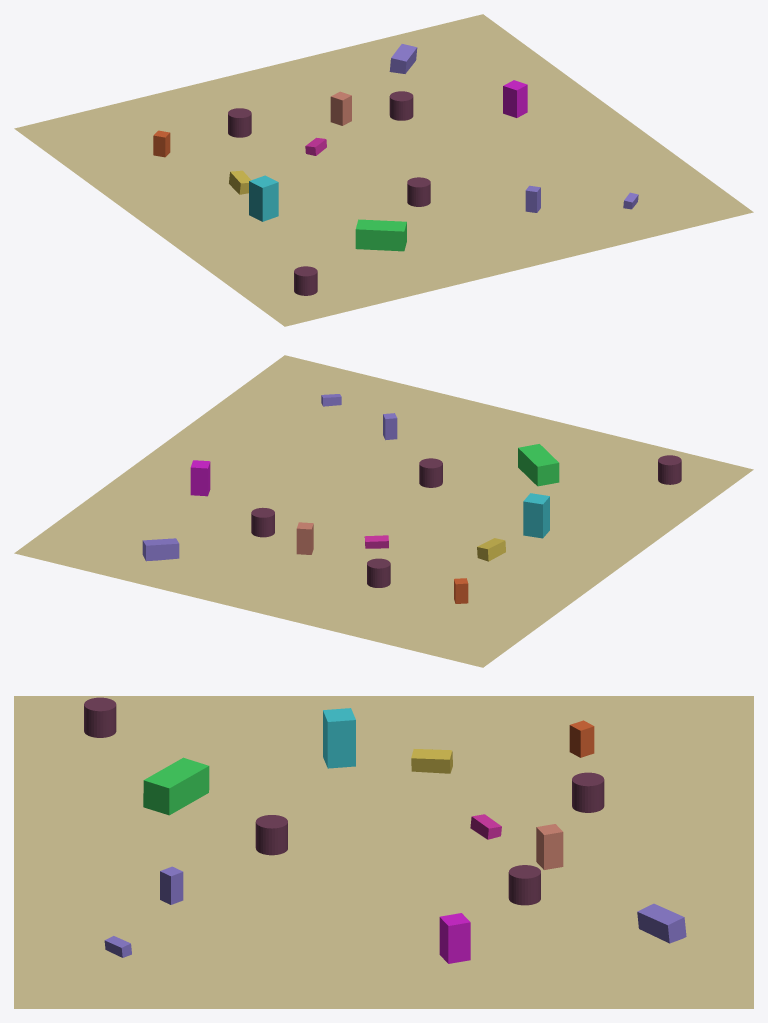
The model's file is Basic_Ground1.fbx.
3 renders of one model, top to bottom at view 1: azimuth 30°, elevation 25°; view 2: azimuth 150°, elevation 25°; view 3: azimuth 270°, elevation 25°, orthographic. The views are drawn at different scales.
Parts seen in each view (by area): view 1: Ground, Prop.007, Prop.001, Prop.003, Prop2, Prop2.001, Prop2.002, Prop.004, Prop2.003, Prop.009; view 2: Ground, Prop.007, Prop.001, Prop.009, Prop.003, Prop2.003, Prop2.002, Prop2.001, Prop2, Prop.004; view 3: Ground, Prop.007, Prop.001, Prop.003, Prop.009, Prop2.001, Prop2.003, Prop2.002, Prop2, Prop.004, Prop.006, Prop (+2 smaller).
Part boxes in pixels (x1,y1,x2,y2): Ground: [14, 14, 753, 326]; Prop.007: [355, 219, 406, 251]; Prop.001: [249, 175, 278, 221]; Prop.003: [503, 80, 527, 117]; Prop2: [389, 91, 413, 120]; Prop2.001: [228, 108, 251, 137]; Prop2.002: [407, 177, 430, 206]; Prop.004: [330, 91, 351, 125]; Prop2.003: [294, 266, 317, 295]; Prop.009: [389, 44, 417, 73]; Ground: [14, 355, 753, 667]; Prop.007: [518, 444, 559, 486]; Prop.001: [523, 493, 549, 538]; Prop.009: [142, 538, 179, 561]; Prop.003: [190, 460, 210, 496]; Prop2.003: [658, 455, 681, 484]; Prop2.002: [419, 458, 442, 487]; Prop2.001: [367, 558, 390, 587]; Prop2: [251, 507, 274, 537]; Prop.004: [296, 522, 313, 554]; Ground: [14, 696, 753, 1008]; Prop.007: [143, 757, 209, 815]; Prop.001: [323, 708, 355, 768]; Prop.003: [439, 913, 470, 963]; Prop.009: [637, 903, 686, 943]; Prop2.001: [572, 772, 604, 812]; Prop2.003: [84, 697, 116, 737]; Prop2.002: [255, 815, 287, 855]; Prop2: [508, 865, 540, 905]; Prop.004: [536, 824, 563, 869]; Prop.006: [411, 749, 452, 773]; Prop: [569, 720, 594, 757].
Size of the model in its own units: 4587 by 368 by 4587.
